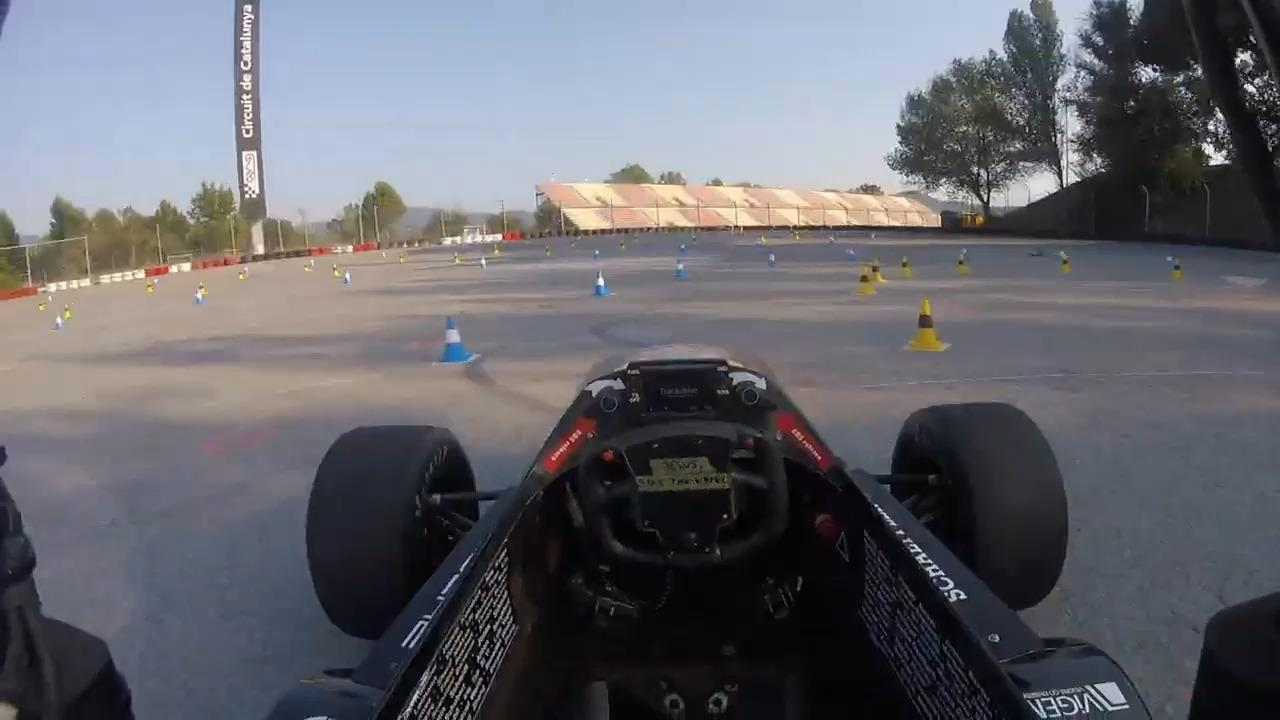blue_cone: (435, 311, 477, 368), (589, 270, 614, 301), (672, 257, 687, 281), (591, 246, 602, 264), (766, 251, 777, 269), (53, 315, 64, 332), (342, 271, 355, 285), (193, 290, 204, 306), (961, 247, 971, 264), (847, 246, 858, 261), (677, 242, 689, 255), (480, 256, 490, 271), (1167, 254, 1175, 269)
yellow_cone: (904, 297, 945, 351), (855, 265, 878, 297), (869, 257, 886, 282), (897, 254, 913, 279), (955, 255, 968, 277), (62, 303, 74, 321), (1060, 257, 1073, 273), (1172, 259, 1182, 279), (198, 281, 212, 295), (144, 280, 155, 295), (330, 264, 341, 278), (397, 253, 407, 266), (492, 244, 502, 257), (793, 230, 802, 244), (543, 246, 553, 258), (453, 253, 462, 265), (237, 271, 246, 281), (37, 302, 45, 313), (619, 239, 626, 250), (761, 234, 768, 245), (304, 264, 311, 272)
